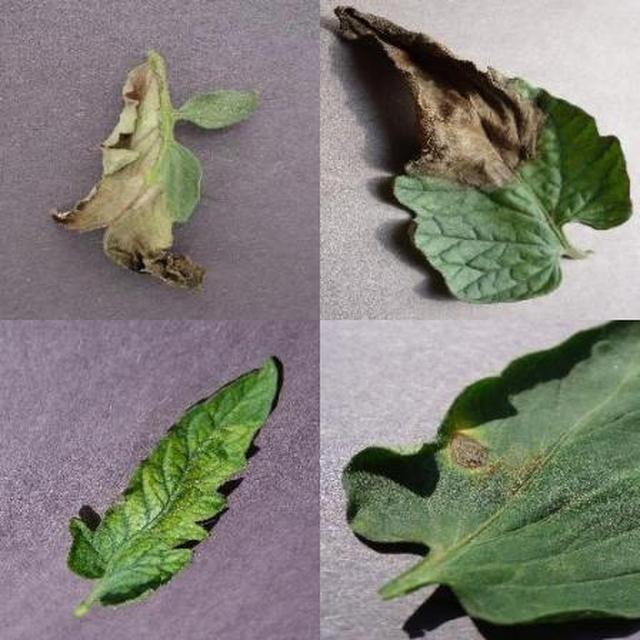Late Blight Leaf: (184, 219, 640, 640)
